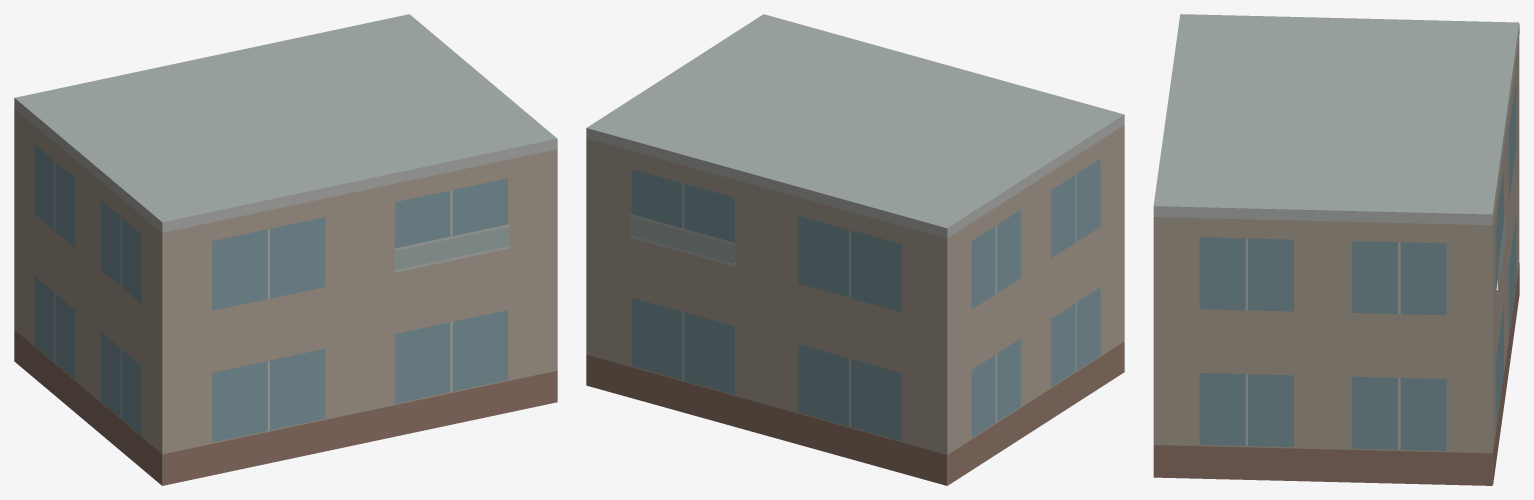
The model's file is survey-upis-32913830.glb.
3 views of the same model, side by side, from view 1: azimuth 30°, elevation 25°; view 2: azimuth 150°, elevation 25°; view 3: azimuth 270°, elevation 25° (orthographic). The views are drawn at different scales.
Visible parts, largest first — view 1: survey-upis-32913830.tmp; view 2: survey-upis-32913830.tmp; view 3: survey-upis-32913830.tmp.
Part boxes in pixels (x1,y1,x2,y2): survey-upis-32913830.tmp: (14, 14, 557, 485); survey-upis-32913830.tmp: (586, 14, 1124, 485); survey-upis-32913830.tmp: (1153, 14, 1519, 485).
Size of the model in its own units: 9.68 by 6.1 by 7.47.
